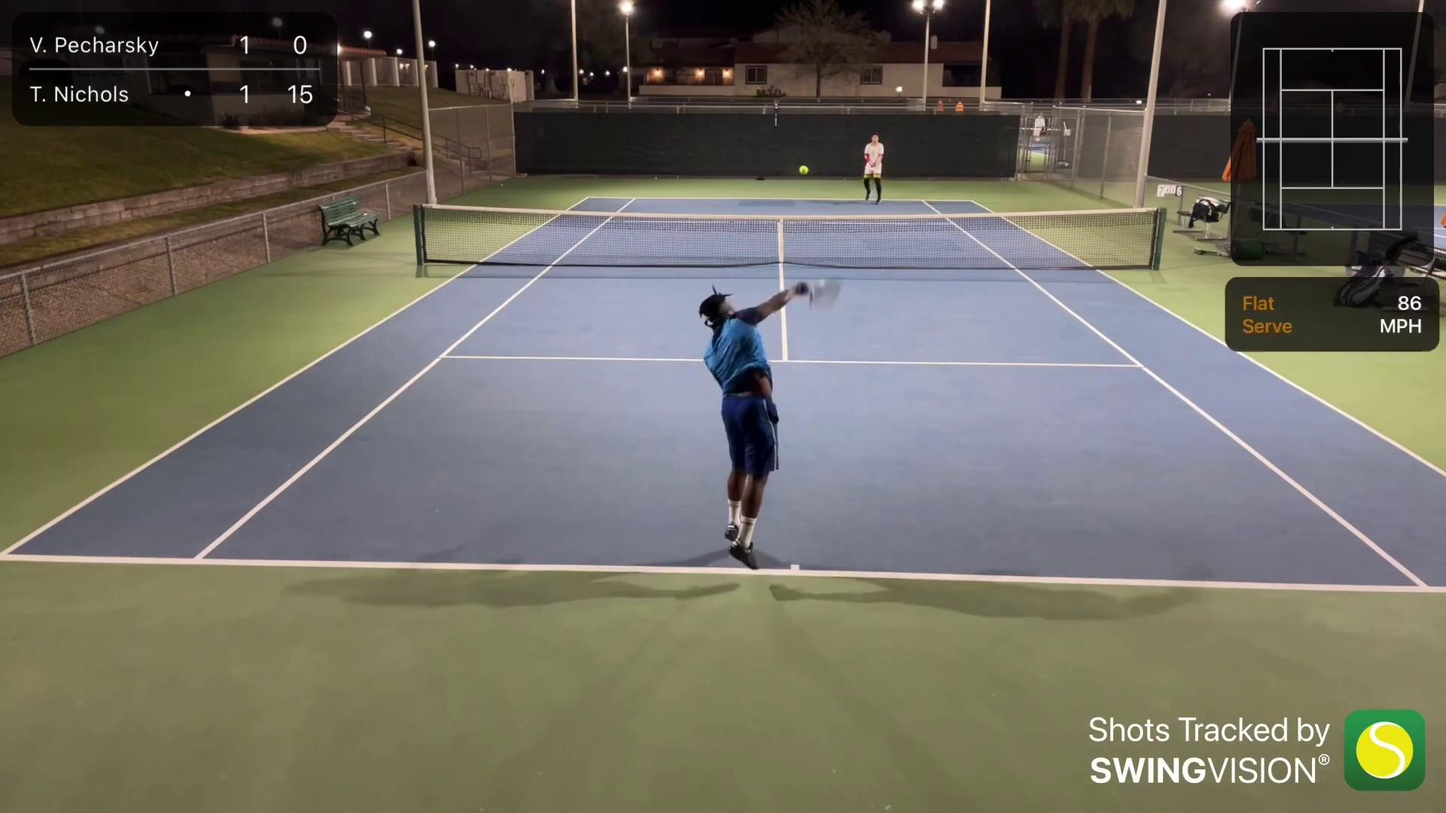ball: (796, 165, 810, 176), (1206, 92, 1211, 97)
